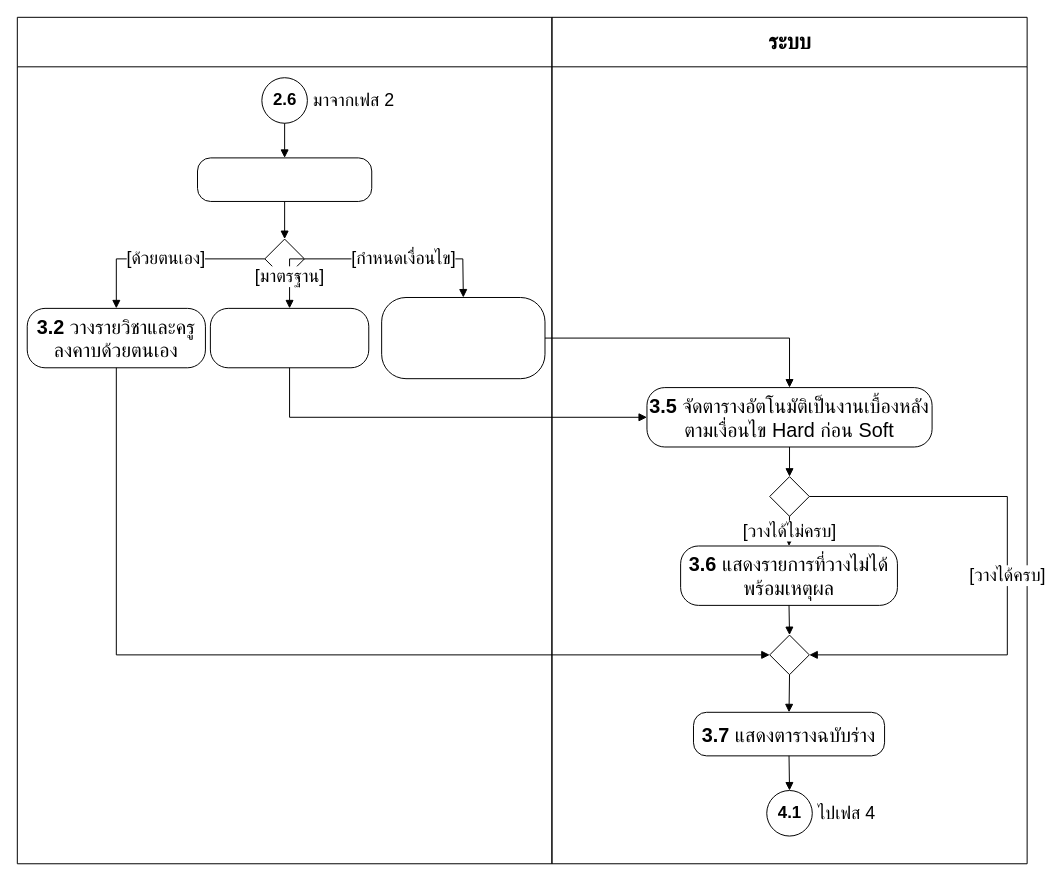
Image size: 1063x881. Some labels were removed from this diagram. Here are the shapes that lost their labels. From the top down, the box of each, then its label:
(197, 157, 372, 201): 3.1 เลือกวิธีจัดตาราง
(209, 307, 369, 368): 3.3 ตรวจเงื่อนไข มาตรฐานและยืนยัน
(381, 297, 545, 379): 3.4 กำหนดเงื่อนไข เช่น ช่วงเช้า คาบคู่ ห้องเฉพาะทาง
(16, 16, 552, 864): ครูฝ่ายวิชาการ
